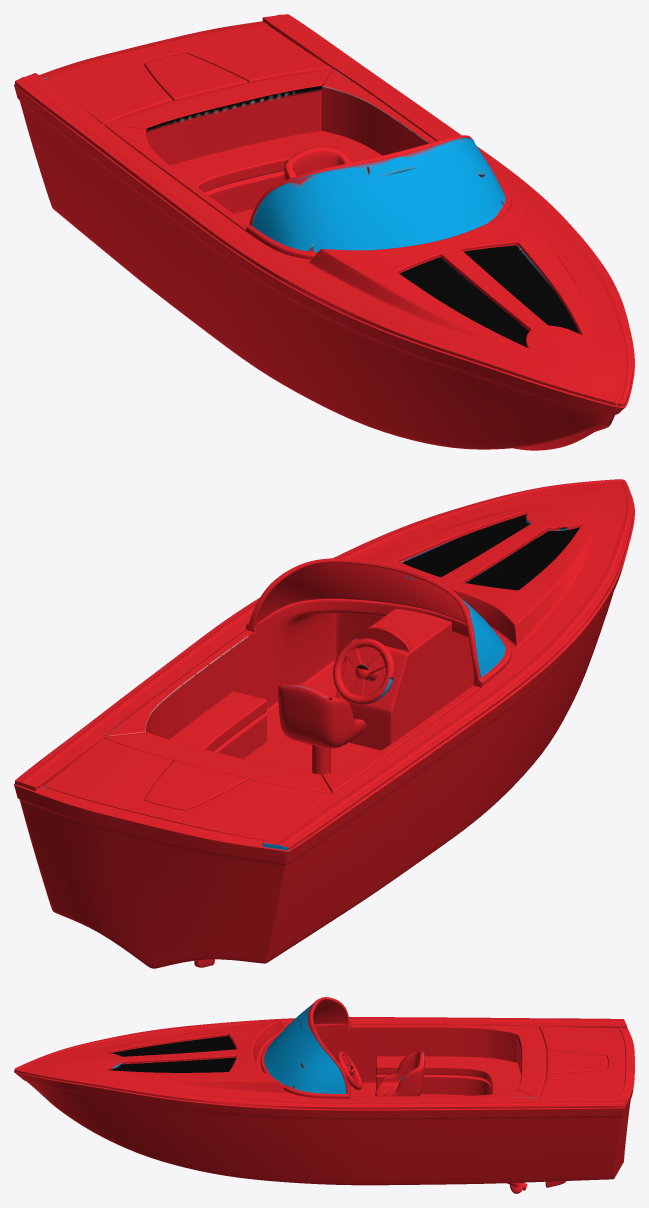
File: boat.glb
3 renders of one model, top to bottom at view 1: azimuth 30°, elevation 25°; view 2: azimuth 150°, elevation 25°; view 3: azimuth 270°, elevation 25°, orthographic. The views are drawn at different scales.
Visible parts, largest first — view 1: 15211_Wakeboard_v1_NEW; view 2: 15211_Wakeboard_v1_NEW; view 3: 15211_Wakeboard_v1_NEW.
Part boxes in pixels (x1,y1,x2,y2): 15211_Wakeboard_v1_NEW: [14, 14, 634, 450]; 15211_Wakeboard_v1_NEW: [14, 479, 634, 968]; 15211_Wakeboard_v1_NEW: [14, 997, 634, 1193].
Bounding box in the file's own units: 1.78 × 1.6 × 5.12.
1 material, 1 textured.
